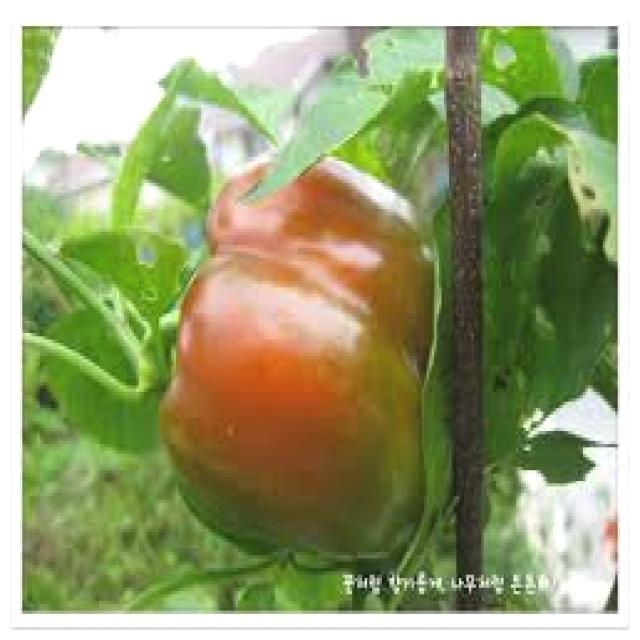bell_pepper: (141, 158, 443, 595)
